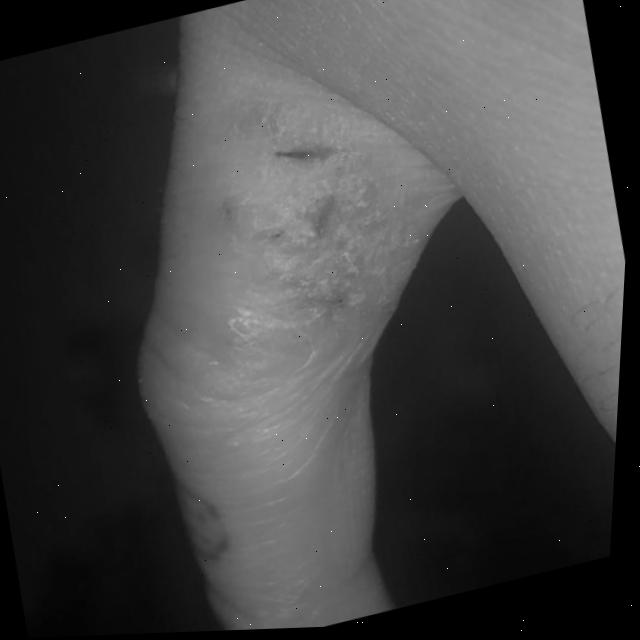Eczema: (191, 130, 361, 297)
